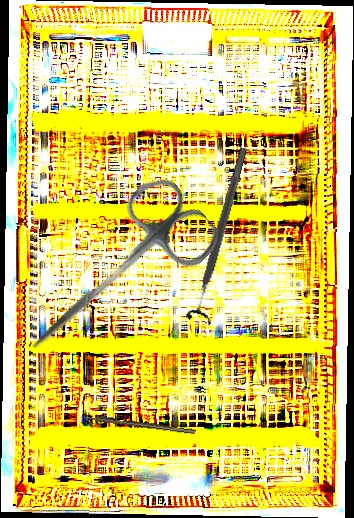Fixation Ring: (184, 144, 258, 326)
Hook Surgical: (80, 412, 196, 436)
Iris Scissors: (2, 167, 227, 386)
